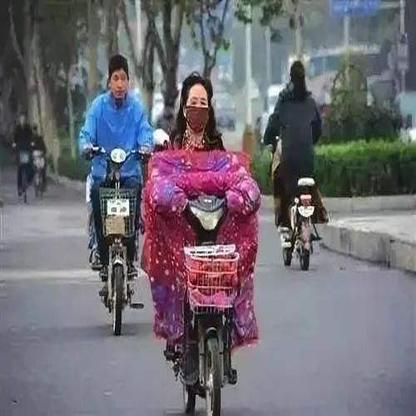target: (143, 71, 263, 413), (76, 53, 151, 336), (264, 60, 331, 271)
